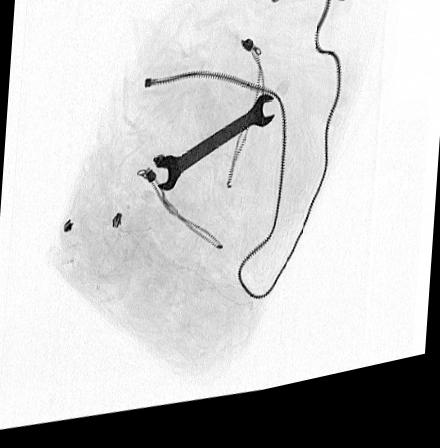Wrench: (153, 105, 275, 199)
